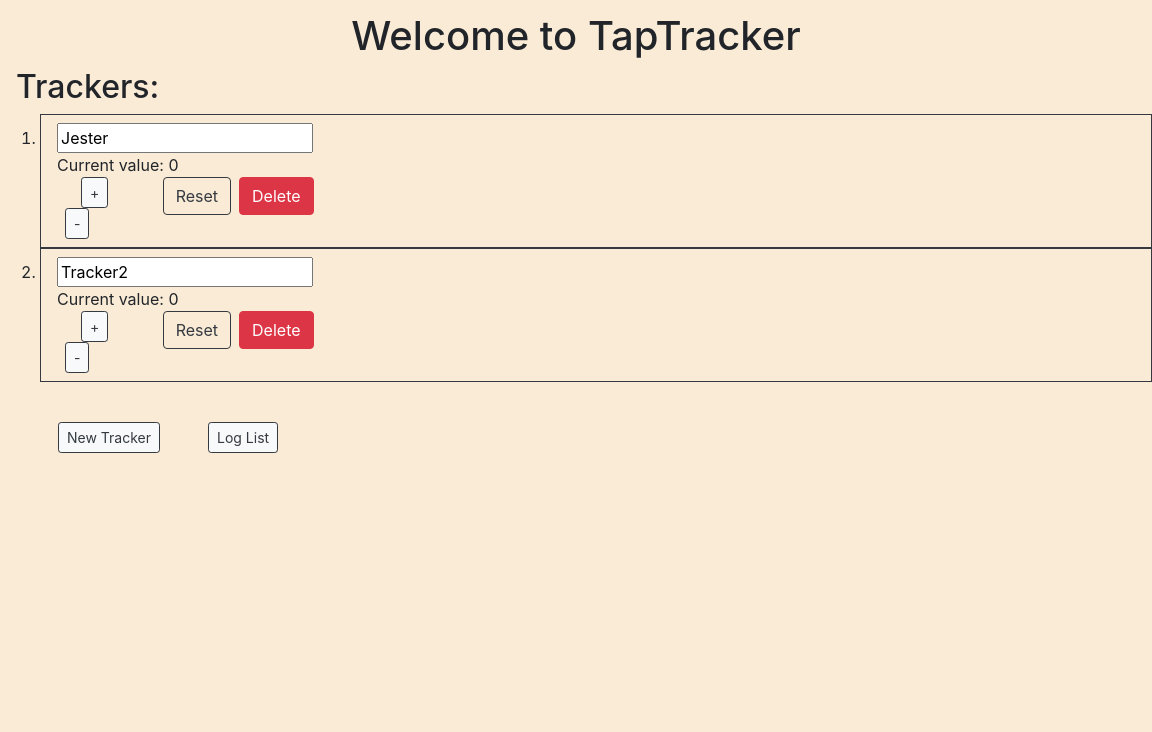
Test: App level tests › Adding a tracker succeeds
Click the button "New Tracker" at [109, 438], box [58,422,160,453]
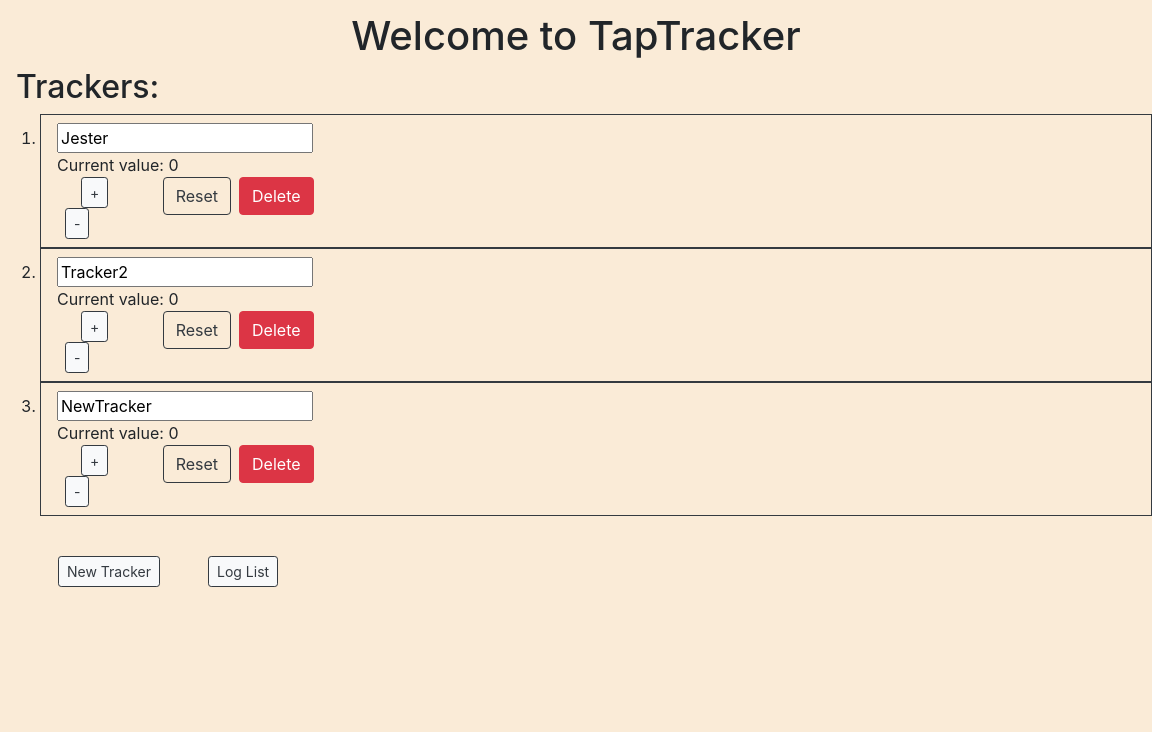
Expected: the 3rd field showing "NewTracker" is shown, [57,391,313,421]
